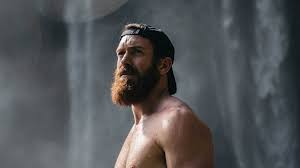b.y: (113, 68, 138, 102)
